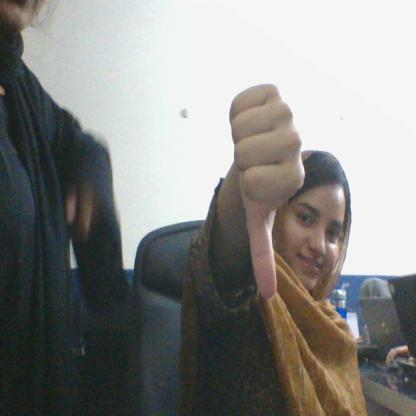thumbs-down: (227, 84, 303, 310)
